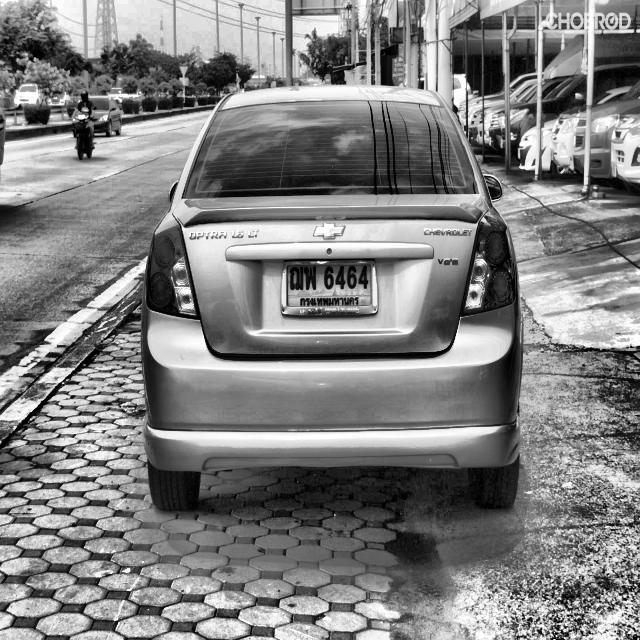license-plate: (276, 256, 380, 323)
